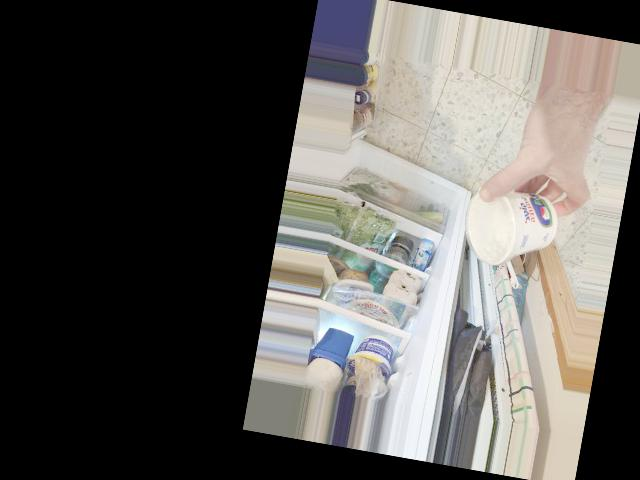cotage: (469, 185, 552, 279)
